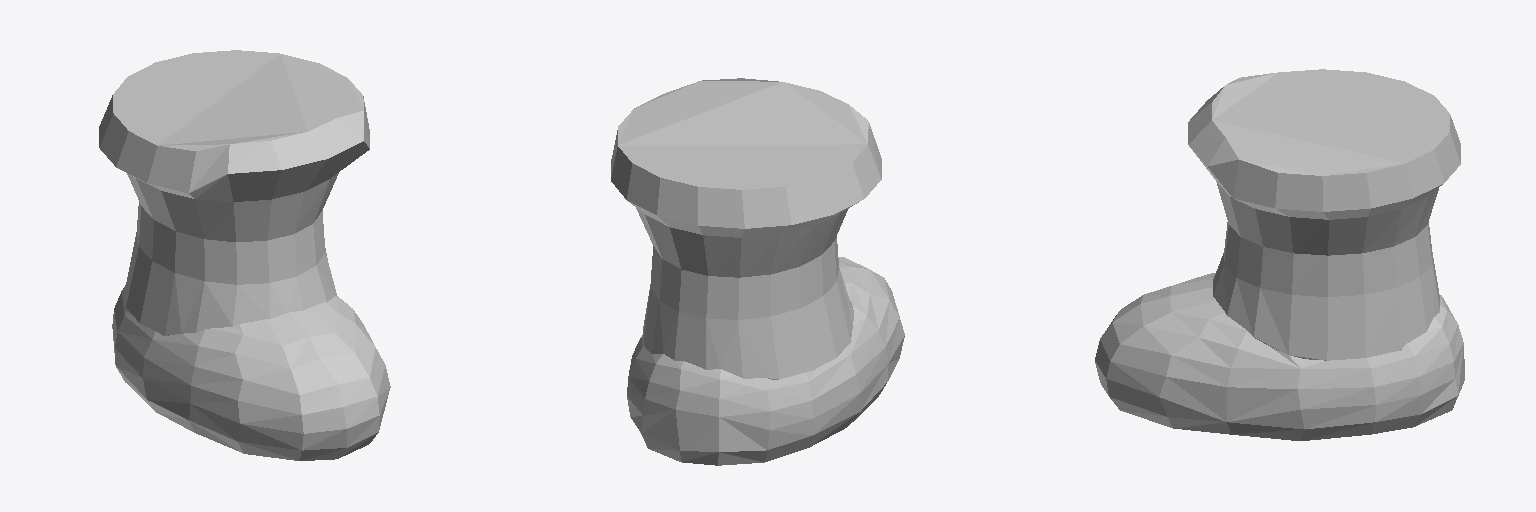
The model's file is bota1.obj.
The picture shows the model from 3 angles: view 1: azimuth 30°, elevation 25°; view 2: azimuth 150°, elevation 25°; view 3: azimuth 270°, elevation 25°; orthographic projection.
Parts seen in each view (by area): view 1: Mesh1; view 2: Mesh1; view 3: Mesh1.
Part boxes in pixels (x1,y1,x2,y2): Mesh1: (99,50,390,460); Mesh1: (611,78,904,465); Mesh1: (1095,69,1464,440).
Size of the model in its own units: 1.08 by 1.27 by 1.47.